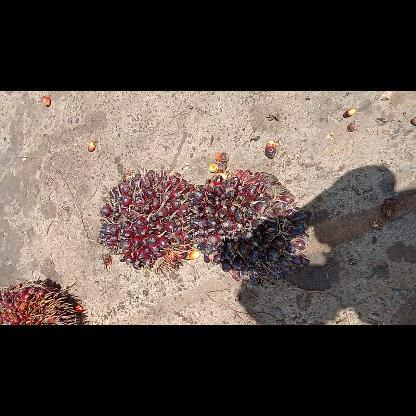Kurang masak: (186, 167, 312, 289), (96, 167, 200, 276)
